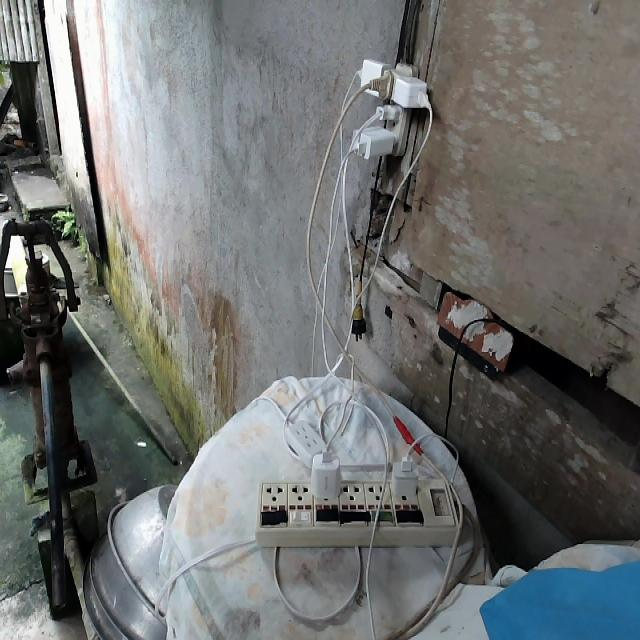-: (344, 56, 432, 159)
